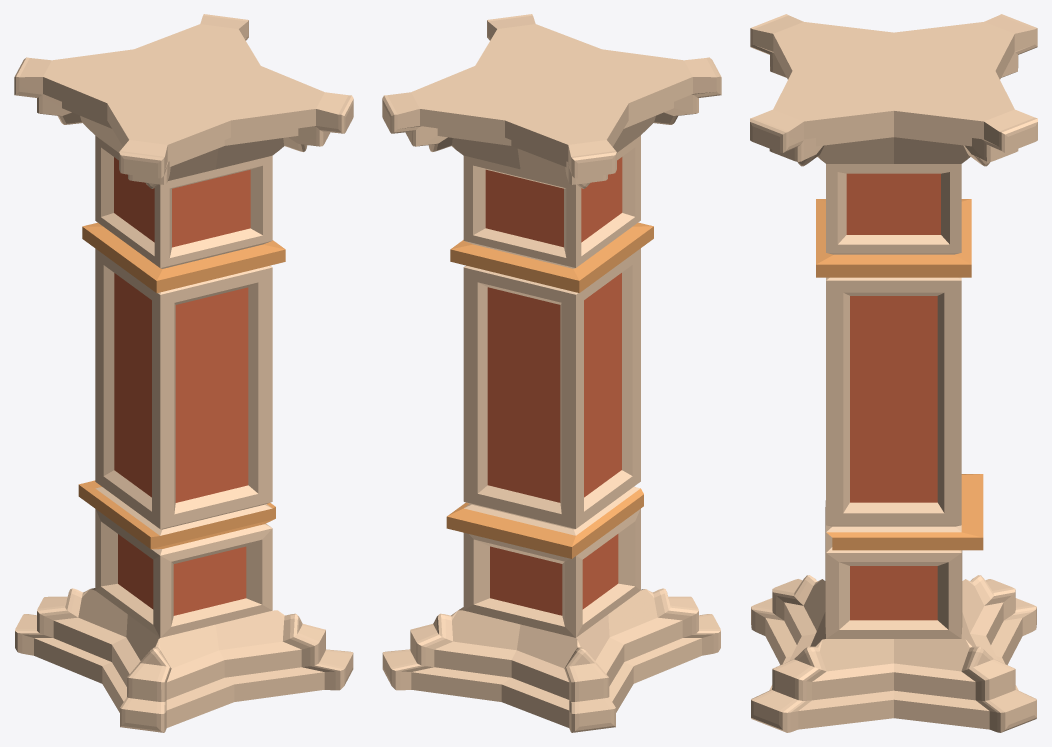
The model's file is PillarD.fbx.
3 renders of one model, left to right at view 1: azimuth 30°, elevation 25°; view 2: azimuth 150°, elevation 25°; view 3: azimuth 270°, elevation 25°, orthographic. The views are drawn at different scales.
Parts seen in each view (by area): view 1: Cube.027; view 2: Cube.027; view 3: Cube.027.
Boxes of the visible parts, x1=… form: Cube.027: x1=14, y1=14, x2=353, y2=732; Cube.027: x1=382, y1=14, x2=721, y2=732; Cube.027: x1=750, y1=14, x2=1037, y2=732.
Bounding box in the file's own units: 387 × 920 × 397.
